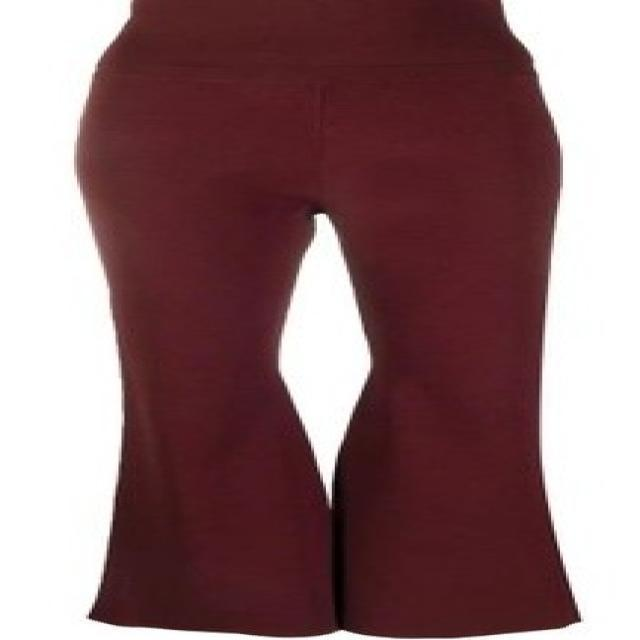pants: (72, 4, 589, 638)
